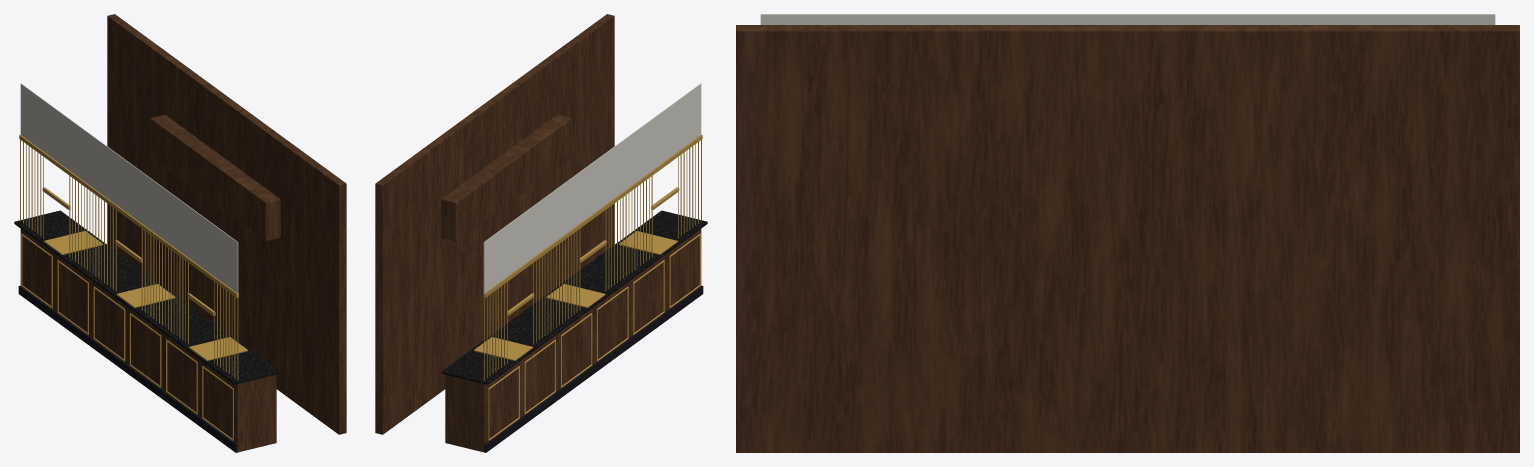
The model's file is SM_CR_Cage.glb.
3 renders of one model, left to right at view 1: azimuth 30°, elevation 25°; view 2: azimuth 150°, elevation 25°; view 3: azimuth 270°, elevation 25°, orthographic. The views are drawn at different scales.
Visible parts, largest first — view 1: SM_CR_Cage; view 2: SM_CR_Cage; view 3: SM_CR_Cage.
Boxes of the visible parts, <box> form: SM_CR_Cage: <box>14,14,346,452</box>; SM_CR_Cage: <box>375,14,707,452</box>; SM_CR_Cage: <box>736,14,1519,452</box>.
Size of the model in its own units: 1.7 by 3.8 by 6.4.
6 materials, 6 textured.
